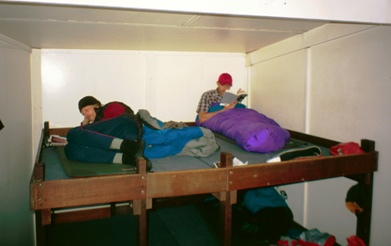person: (198, 73, 239, 124)
